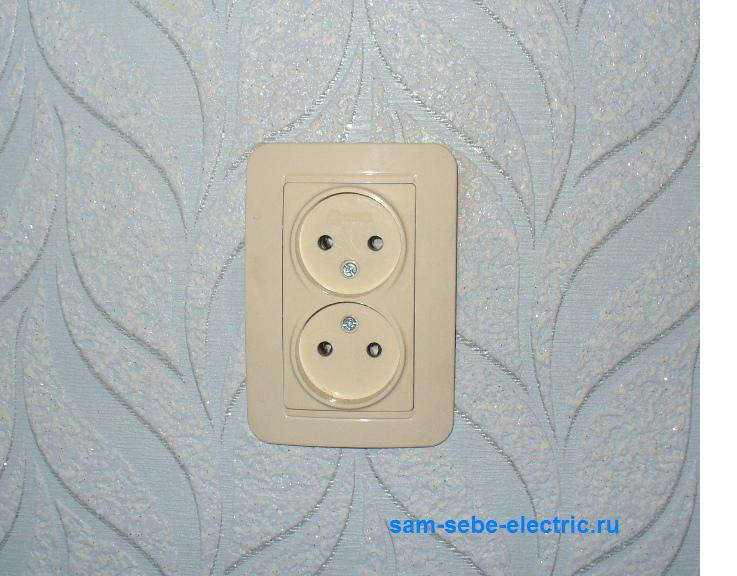raccoon: (289, 300, 404, 408), (290, 188, 404, 292)
